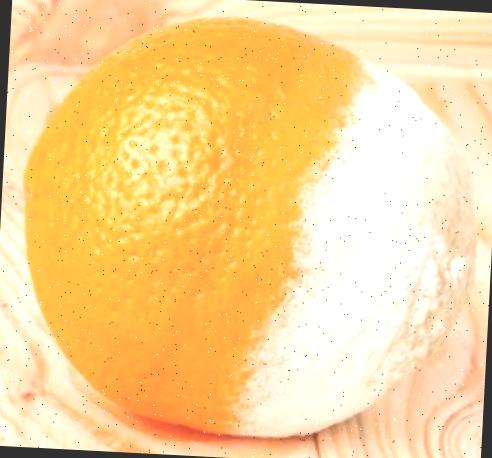Orange Rotten: (13, 0, 488, 458)
